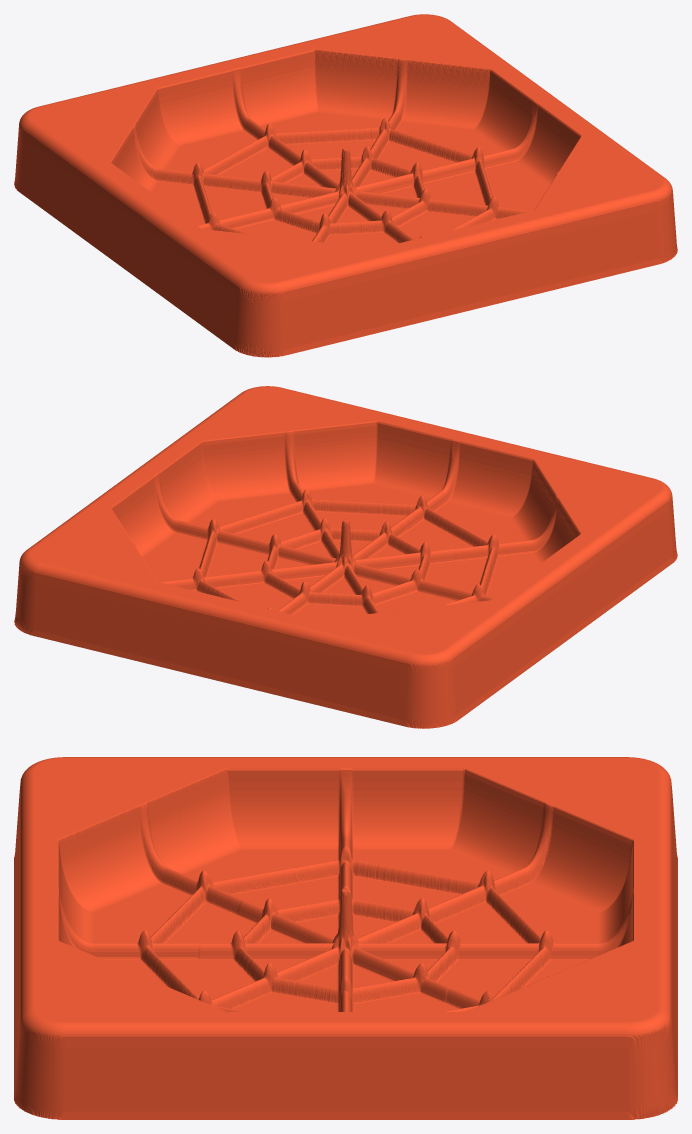
File: mold.glb
The picture shows the model from 3 angles, top to bottom: view 1: azimuth 30°, elevation 25°; view 2: azimuth 150°, elevation 25°; view 3: azimuth 270°, elevation 25°; orthographic projection. The views are drawn at different scales.
Parts seen in each view (by area): view 1: geometry_0; view 2: geometry_0; view 3: geometry_0.
Part boxes in pixels (x1,y1,x2,y2): geometry_0: (14, 14, 677, 357); geometry_0: (14, 386, 677, 728); geometry_0: (14, 757, 677, 1119).
Size of the model in its own units: 0.1178 by 0.0175 by 0.1178.
